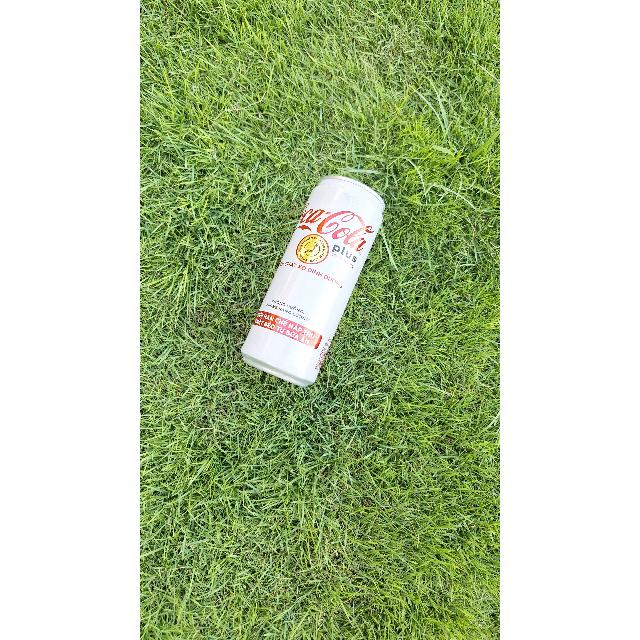Coca Cola Plus: (236, 175, 406, 397)
